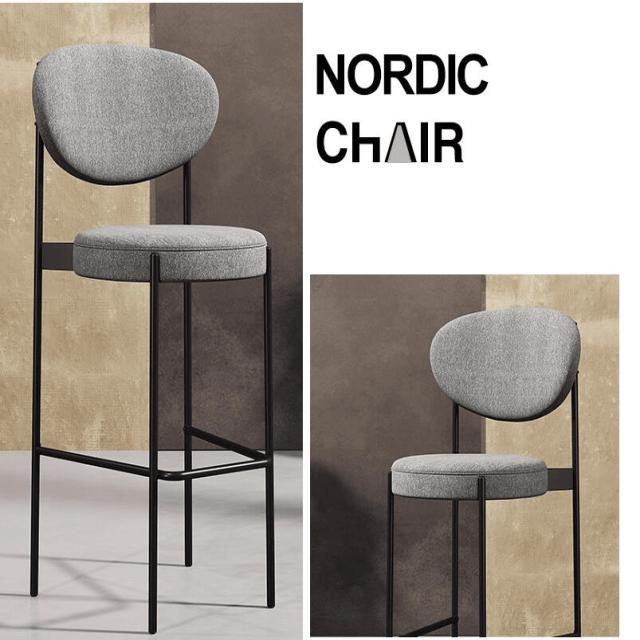chair: (27, 38, 279, 634), (383, 301, 585, 640), (34, 44, 264, 279), (388, 296, 580, 496)
